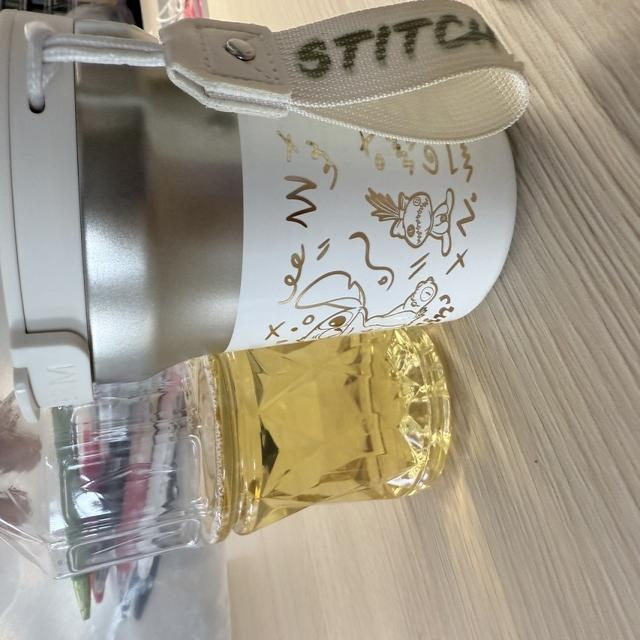medium: (0, 328, 450, 577)
